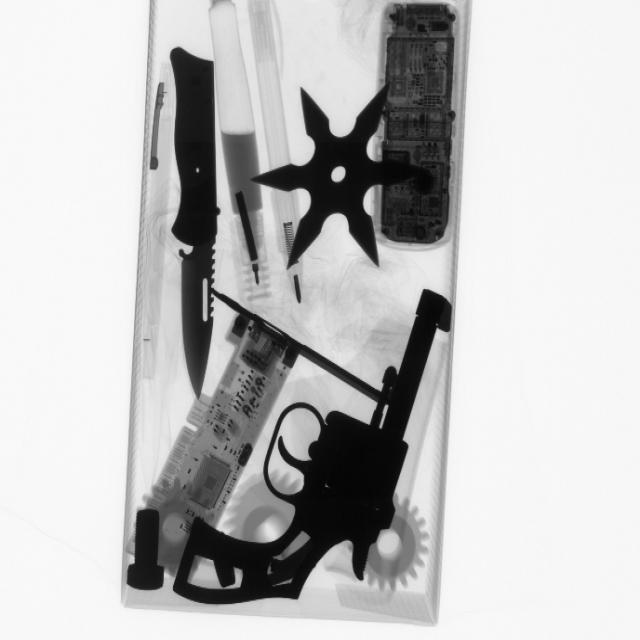GUN: (169, 284, 453, 613)
KNIFE: (162, 51, 235, 389)
SHURIKEN: (256, 76, 424, 271)
